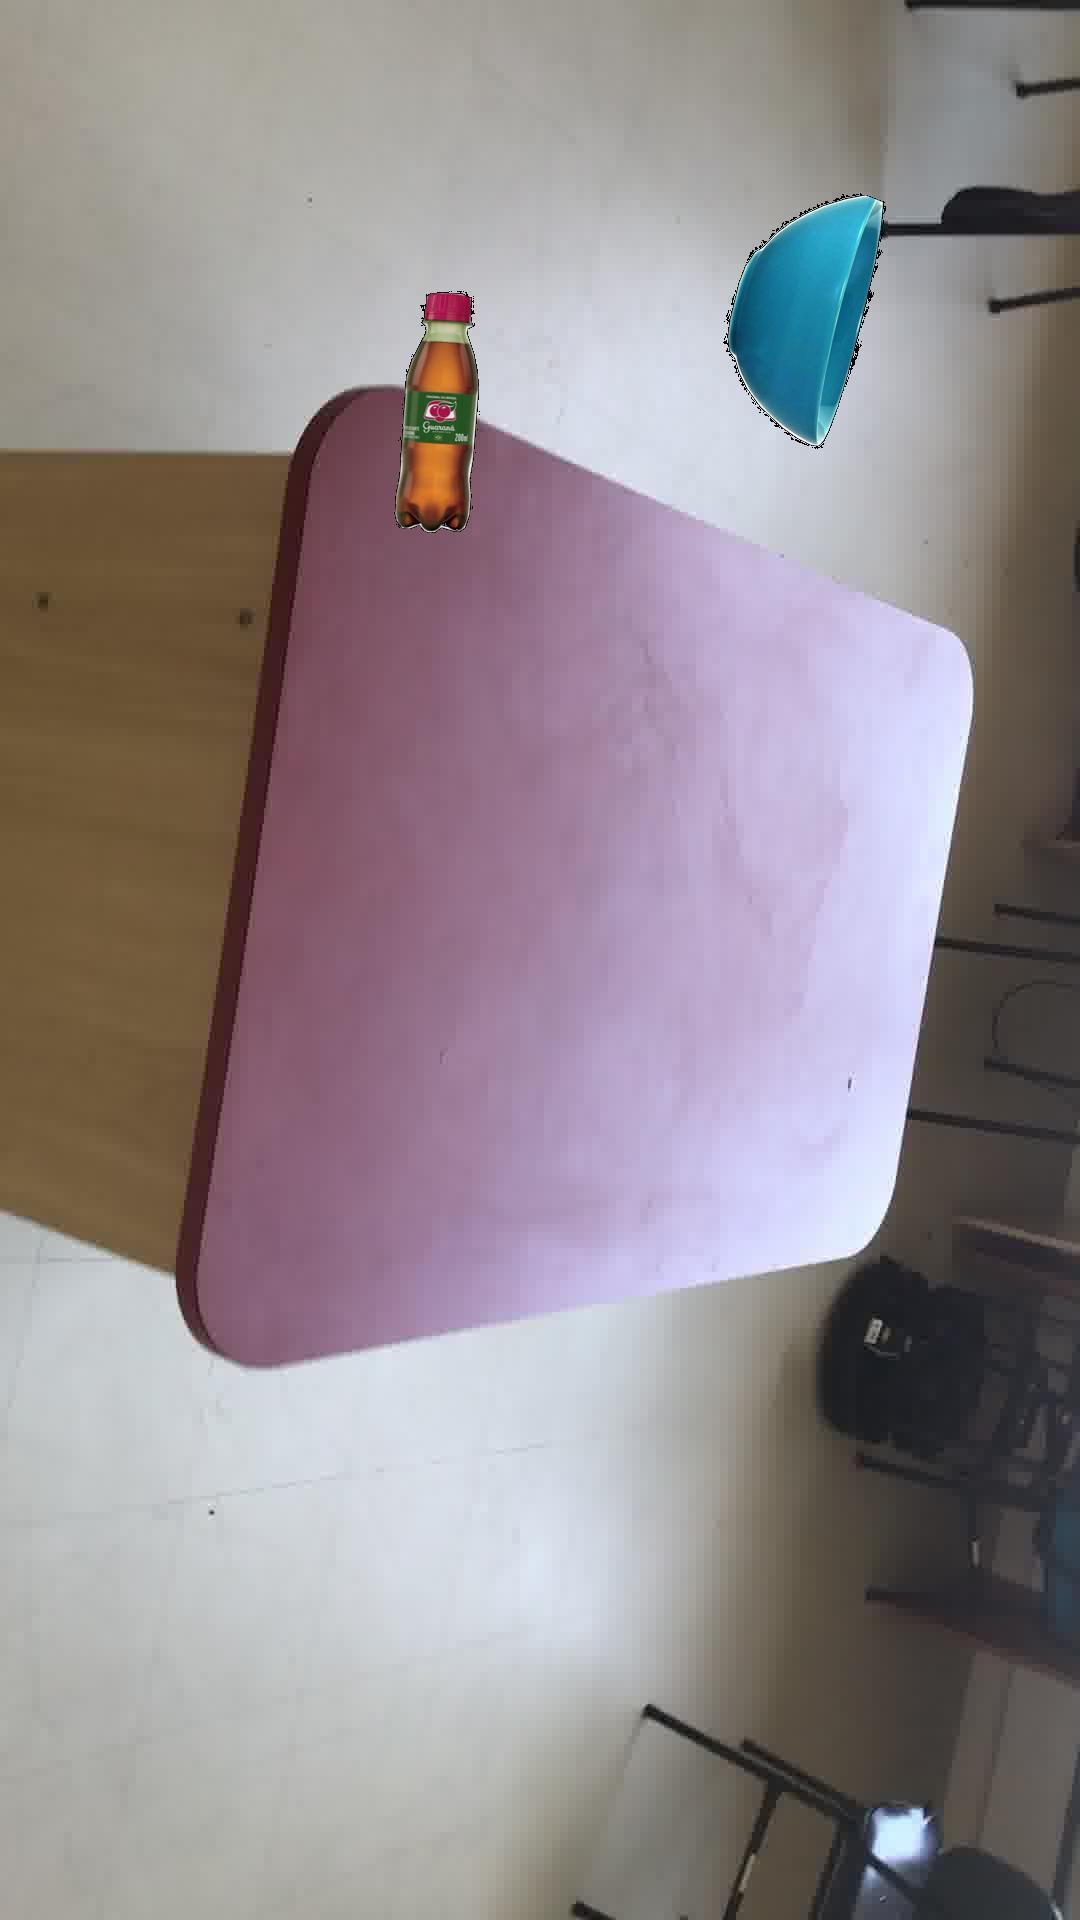bowl: (721, 191, 885, 447)
guarana: (393, 290, 477, 531)
